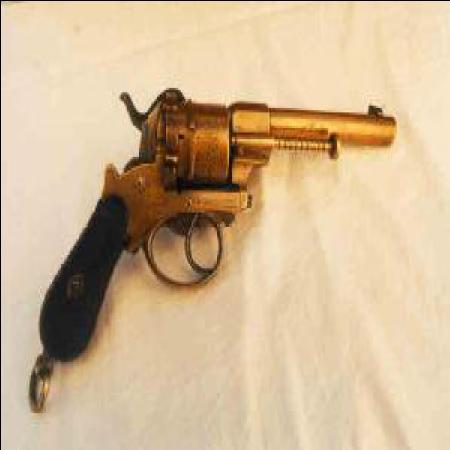Pistol: (36, 80, 393, 358)
